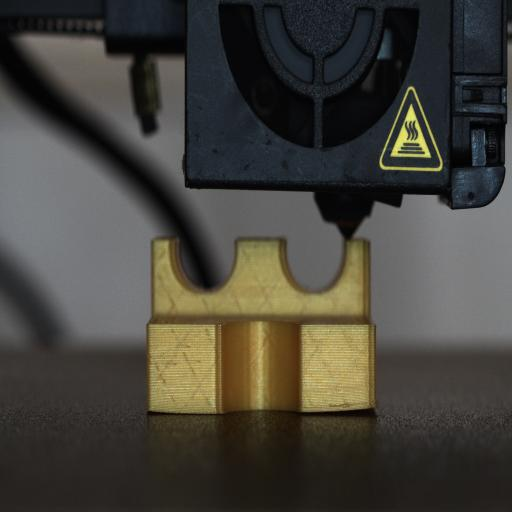warp: (332, 391, 382, 421)
